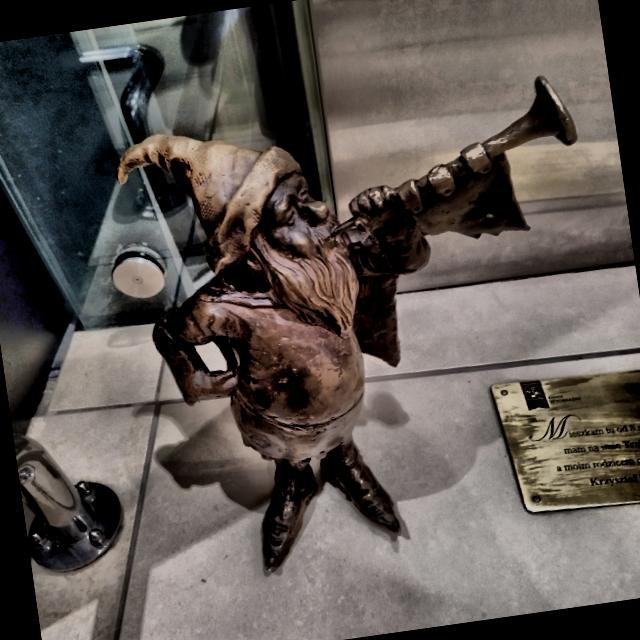Trabibrzuch: (117, 79, 575, 571)
